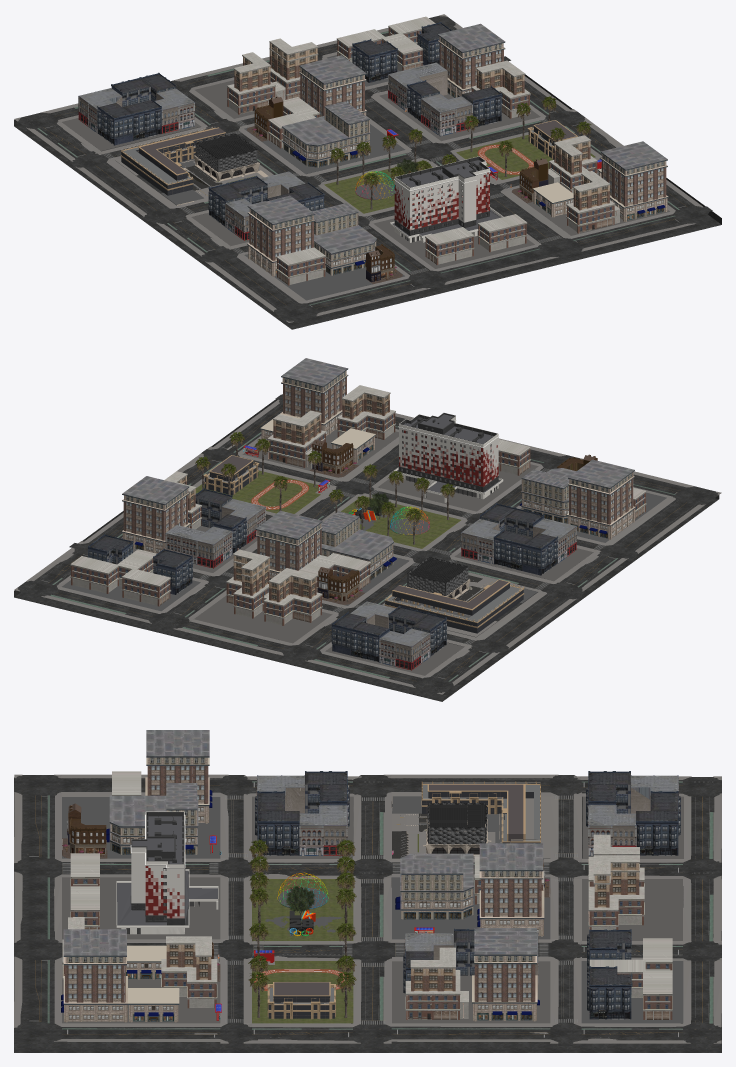
Rendered from olympic-village-v3-vr.1cae7c95.glb.
The picture shows the model from 3 angles, top to bottom: view 1: azimuth 30°, elevation 25°; view 2: azimuth 150°, elevation 25°; view 3: azimuth 270°, elevation 25°; orthographic projection. The views are drawn at different scales.
Visible parts, largest first — view 1: road, Plane.065_atlas.004_002, Object_168, side-walk, Object_166, Object_160, hostel, block-002, building, [1001871], block-010, road-marking (+5 smaller); view 2: road, Plane.065_atlas.004_002, Object_168, side-walk, Object_166, Object_160, block-002, hostel, building, block-010, Washingtonia_Robusta_2_Material #81_009, [1001871] (+4 smaller); view 3: road, Plane.065_atlas.004_002, side-walk, Object_168, Object_166, block-002, [1001871], road-marking, hostel, Object_160, building, block-010 (+7 smaller).
Boxes of the visible parts, x1=… form: road: x1=14, y1=16, x2=721, y2=329; Plane.065_atlas.004_002: x1=247, y1=23, x2=668, y2=276; Object_168: x1=227, y1=16, x2=620, y2=285; side-walk: x1=14, y1=14, x2=702, y2=322; Object_166: x1=97, y1=22, x2=501, y2=226; Object_160: x1=78, y1=62, x2=472, y2=240; hostel: x1=390, y1=156, x2=502, y2=242; block-002: x1=62, y1=80, x2=669, y2=268; building: x1=120, y1=120, x2=577, y2=195; [1001871]: x1=161, y1=55, x2=423, y2=300; block-010: x1=216, y1=135, x2=595, y2=213; road-marking: x1=27, y1=21, x2=686, y2=308; road: x1=14, y1=394, x2=719, y2=701; Plane.065_atlas.004_002: x1=121, y1=358, x2=635, y2=580; Object_168: x1=70, y1=385, x2=646, y2=625; side-walk: x1=14, y1=399, x2=721, y2=694; Object_166: x1=88, y1=488, x2=558, y2=662; Object_160: x1=165, y1=499, x2=576, y2=670; block-002: x1=133, y1=428, x2=593, y2=675; hostel: x1=394, y1=413, x2=503, y2=502; building: x1=203, y1=455, x2=524, y2=633; block-010: x1=195, y1=470, x2=470, y2=588; Washingtonia_Robusta_2_Material #81_009: x1=195, y1=432, x2=455, y2=544; [1001871]: x1=62, y1=492, x2=666, y2=617; road: x1=14, y1=775, x2=721, y2=1052; Plane.065_atlas.004_002: x1=61, y1=730, x2=544, y2=1022; side-walk: x1=14, y1=774, x2=721, y2=1043; Object_168: x1=62, y1=771, x2=672, y2=1020; Object_166: x1=255, y1=771, x2=680, y2=1019; block-002: x1=62, y1=796, x2=683, y2=1023; [1001871]: x1=62, y1=796, x2=683, y2=1023; road-marking: x1=27, y1=779, x2=713, y2=1038; hostel: x1=116, y1=811, x2=218, y2=934; Object_160: x1=256, y1=775, x2=678, y2=993; building: x1=267, y1=781, x2=540, y2=1019; block-010: x1=252, y1=830, x2=425, y2=1023.
Size of the model in its own units: 185 by 26.56 by 204.
76 materials, 41 textured.
